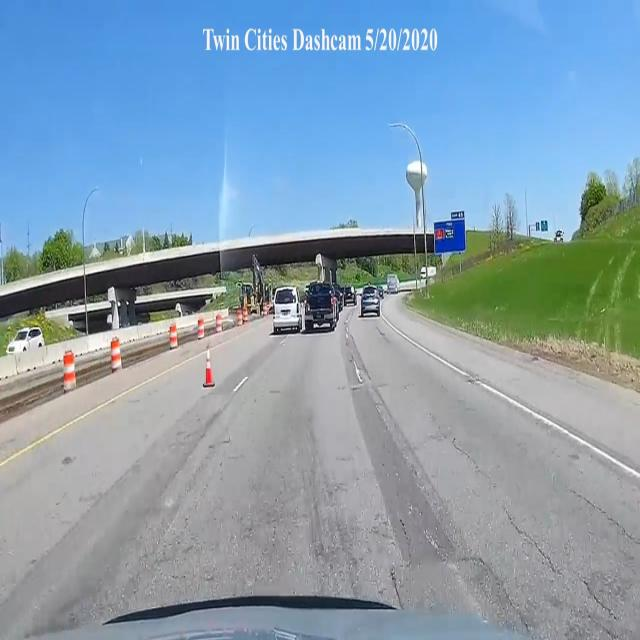cone: (199, 354, 217, 390)
